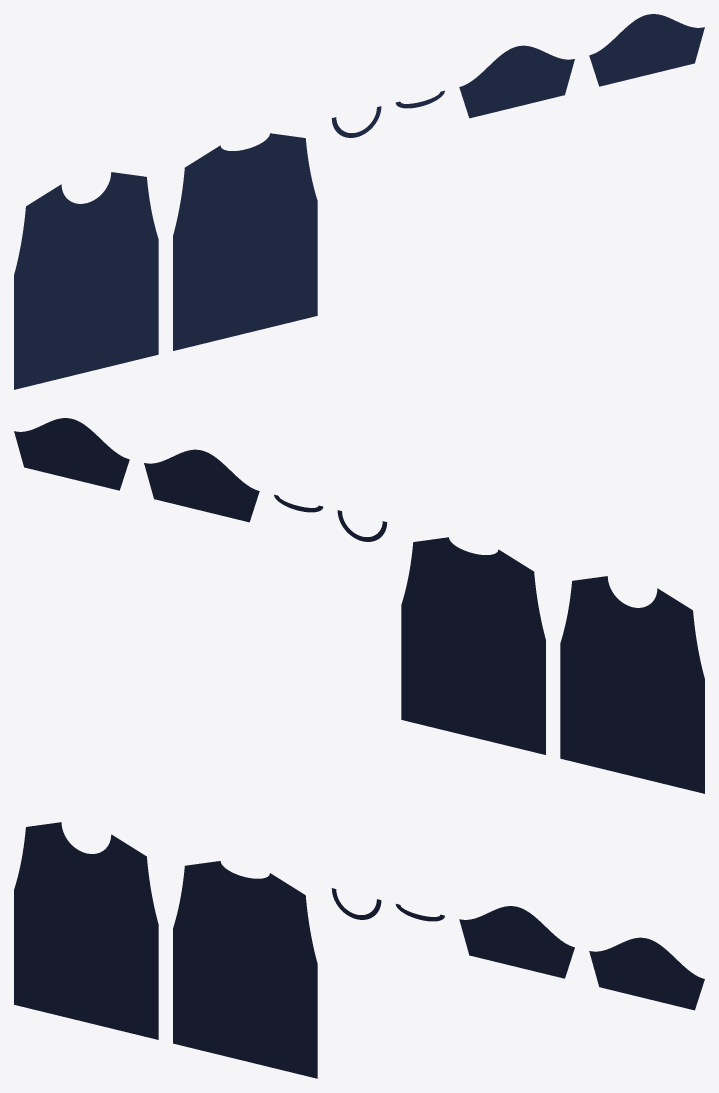
The model's file is camiseta-basica-supima-unisex-talla-S.glb.
The picture shows the model from 3 angles, top to bottom: view 1: azimuth 30°, elevation 25°; view 2: azimuth 150°, elevation 25°; view 3: azimuth 330°, elevation 25°; orthographic projection.
Parts seen in each view (by area): view 1: patron-espalda, patron-delantero, patron-manga-izq, patron-manga-der; view 2: patron-espalda, patron-delantero, patron-manga-izq, patron-manga-der; view 3: patron-espalda, patron-delantero, patron-manga-der, patron-manga-izq.
Boxes of the visible parts, x1,y1,x2,y2 form: patron-espalda: (173,133,317,350); patron-delantero: (14,172,158,389); patron-manga-izq: (459,45,574,118); patron-manga-der: (589,14,704,86); patron-espalda: (401,537,545,754); patron-delantero: (560,576,704,793); patron-manga-izq: (144,449,259,522); patron-manga-der: (14,418,129,490); patron-espalda: (173,861,317,1078); patron-delantero: (14,822,158,1039); patron-manga-der: (589,937,704,1010); patron-manga-izq: (459,906,574,978).
Size of the model in its own units: 2.46 by 0.75 by 0.
